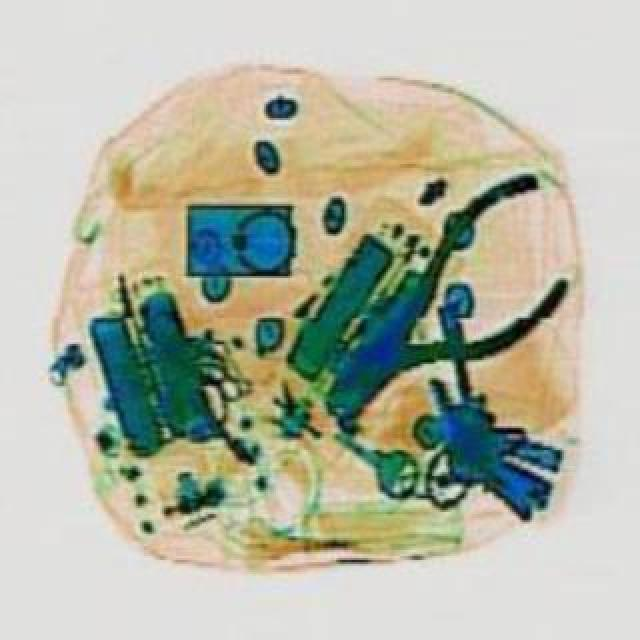wrench: (290, 152, 618, 448)
